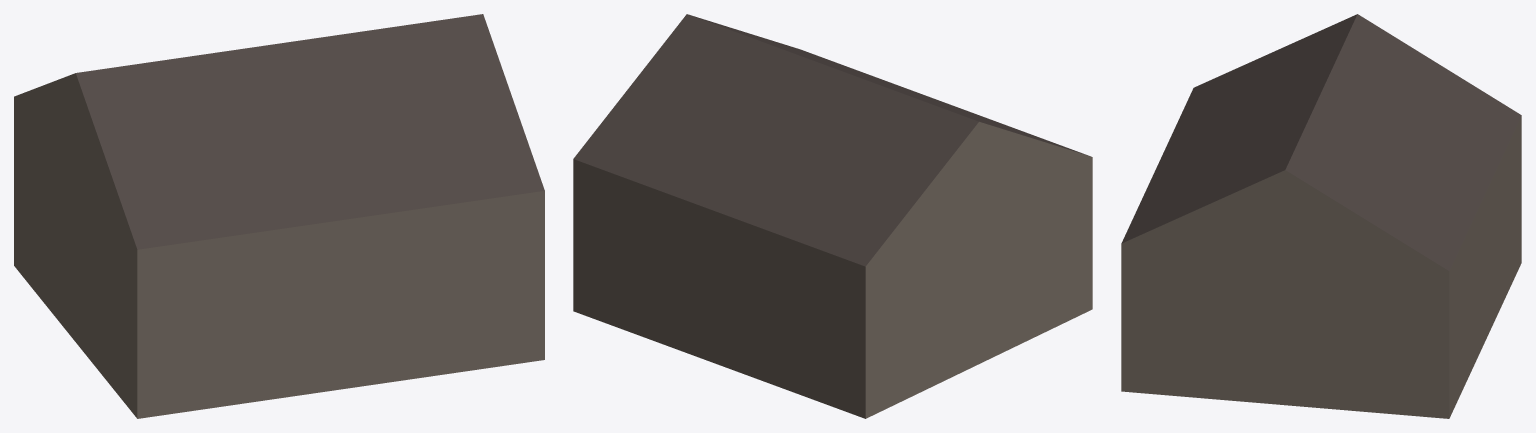
3 views of the same model, side by side, from view 1: azimuth 30°, elevation 25°; view 2: azimuth 150°, elevation 25°; view 3: azimuth 270°, elevation 25° (orthographic). The views are drawn at different scales.
Visible parts, largest first — view 1: HP-w859082549; view 2: HP-w859082549; view 3: HP-w859082549.
Boxes of the visible parts, x1=… form: HP-w859082549: x1=14, y1=14, x2=544, y2=418; HP-w859082549: x1=573, y1=14, x2=1092, y2=418; HP-w859082549: x1=1121, y1=14, x2=1521, y2=418.
Size of the model in its own units: 15.98 by 9.55 by 14.74.
